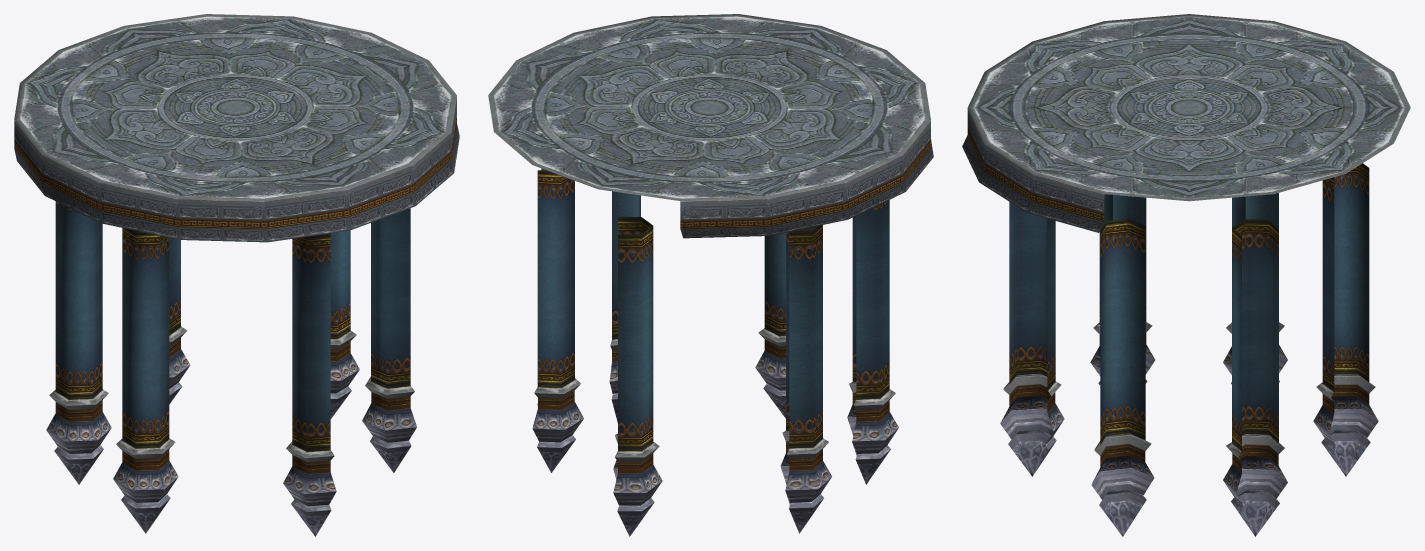
Rendered from yw_piaomiaofeng_yuantai.FBX.
The picture shows the model from 3 angles, left to right: view 1: azimuth 30°, elevation 25°; view 2: azimuth 150°, elevation 25°; view 3: azimuth 270°, elevation 25°; orthographic projection.
Parts seen in each view (by area): view 1: yw_piaomiaofeng_yuantai; view 2: yw_piaomiaofeng_yuantai; view 3: yw_piaomiaofeng_yuantai.
Part boxes in pixels (x1,y1,x2,y2): yw_piaomiaofeng_yuantai: (14,14,459,536); yw_piaomiaofeng_yuantai: (488,14,933,536); yw_piaomiaofeng_yuantai: (962,14,1410,536).
Bounding box in the file's own units: 1265 × 1162 × 1281.
